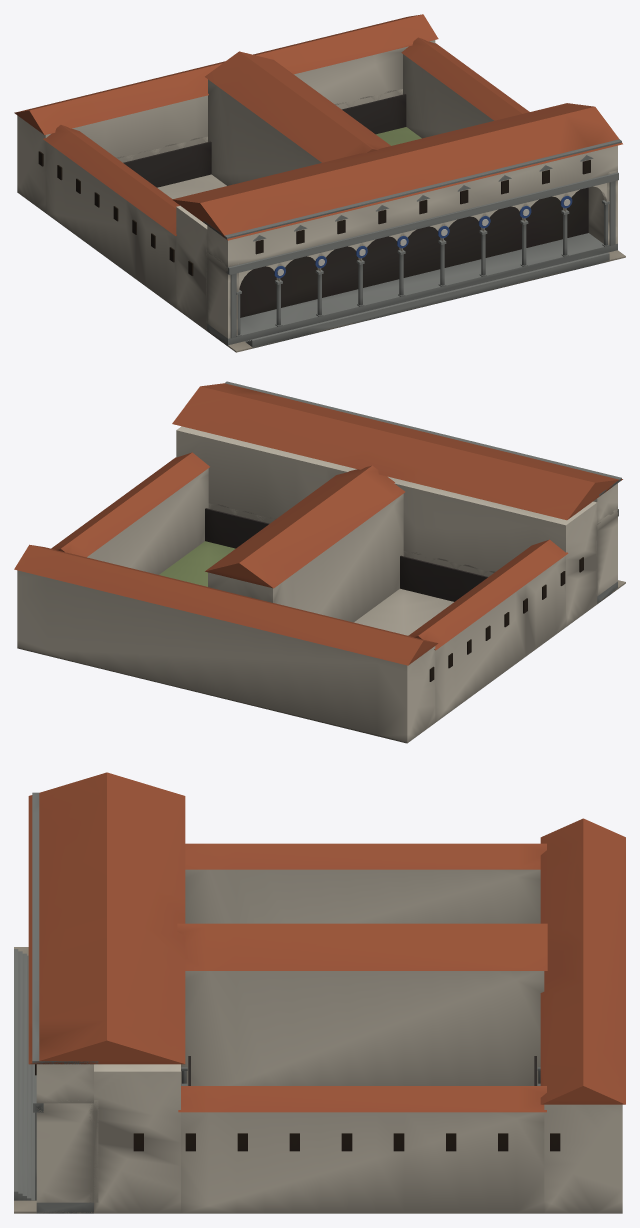
File: innocenti.glb
3 views of the same model, one above another, from view 1: azimuth 30°, elevation 25°; view 2: azimuth 150°, elevation 25°; view 3: azimuth 270°, elevation 25° (orthographic). The views are drawn at different scales.
Parts seen in each view (by area): view 1: p2_hospital, p1_loggia, p0_steps; view 2: p2_hospital, p1_loggia, p0_steps; view 3: p2_hospital, p1_loggia, p0_steps.
Boxes of the visible parts, x1,y1,x2,y2 form: p2_hospital: (14,14,622,330); p1_loggia: (203,139,621,338); p0_steps: (207,233,625,352); p2_hospital: (14,383,622,742); p1_loggia: (225,381,621,596); p0_steps: (17,580,625,743); p2_hospital: (28,772,625,1213); p1_loggia: (32,792,98,1202); p0_steps: (14,947,93,1213).
Bounding box in the file's own units: 73 × 22.2 × 70.4.
